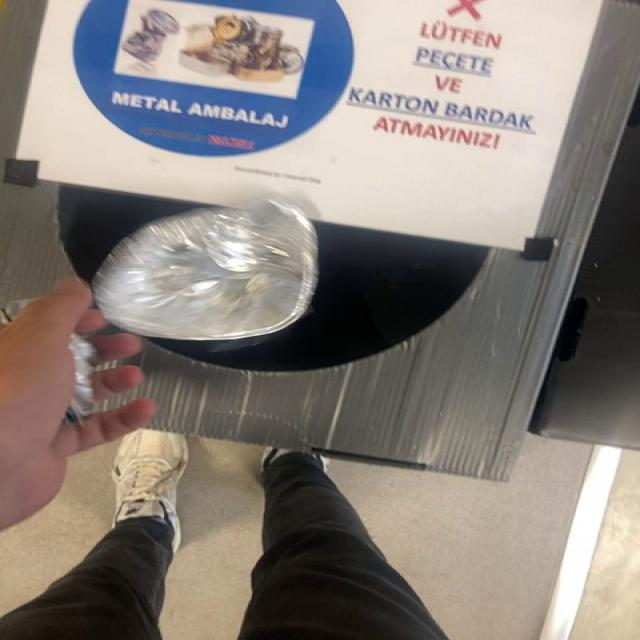metal: (92, 198, 317, 340)
